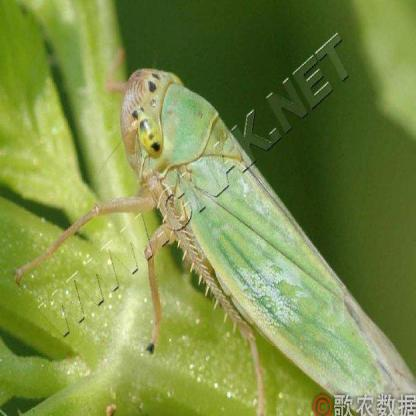Green-Leafhopper: (24, 57, 416, 394)
